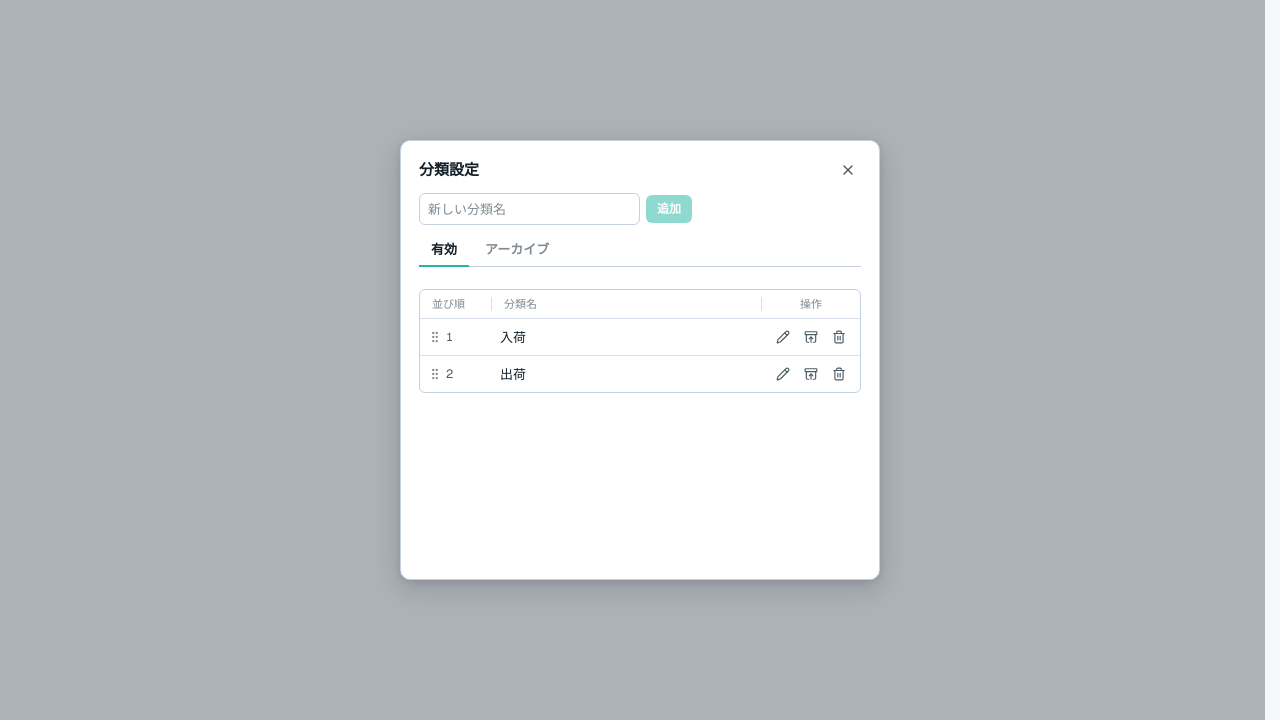
Test: CategorySettingsDialog（rete-desk-0140） › アーカイブタブへ切替でアーカイブ済のみ表示し、解除ボタンを出すこと（rete-desk-0200）
Expected: the text "入荷" is shown, [500,328,526,346]
Click the tab "アーカイブ".
click(517, 251)  # box [473,235,561,267]
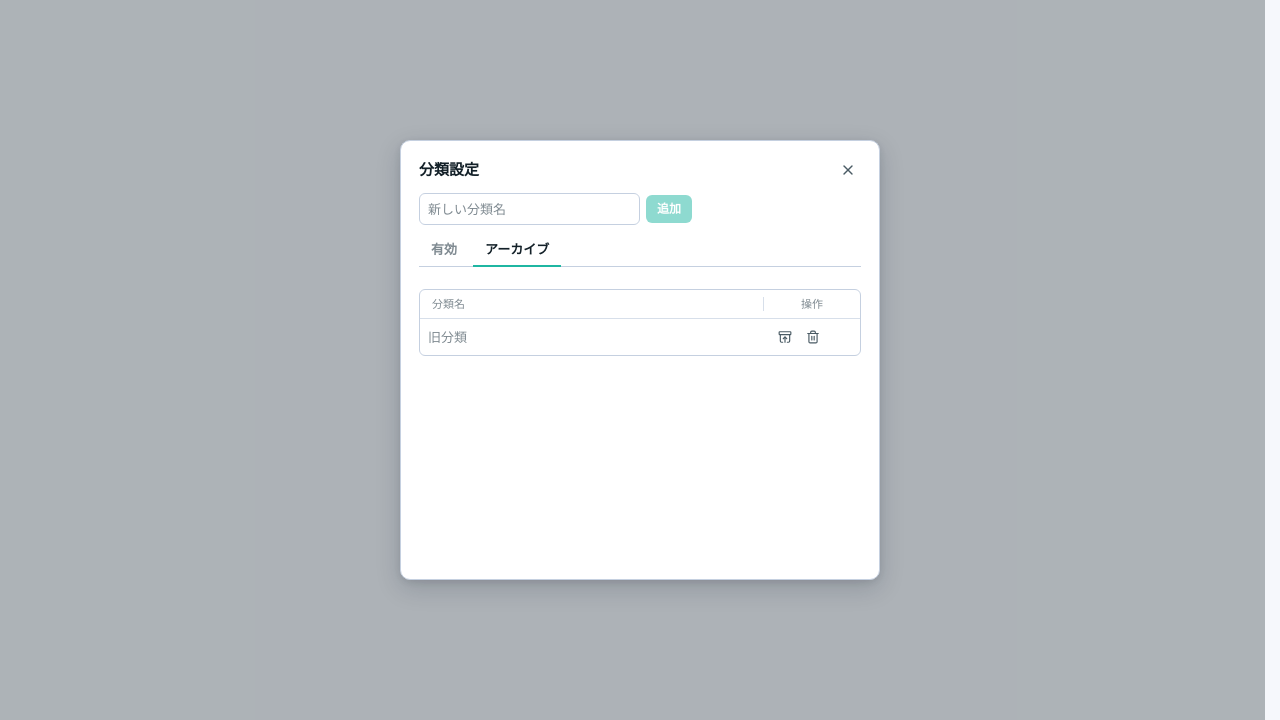
Expected: the text "旧分類" is shown, [428,328,467,346]
Expected: the text "入荷" is gone
Expected: the button named "旧分類 をアーカイブ解除" is shown, [772,324,798,350]
